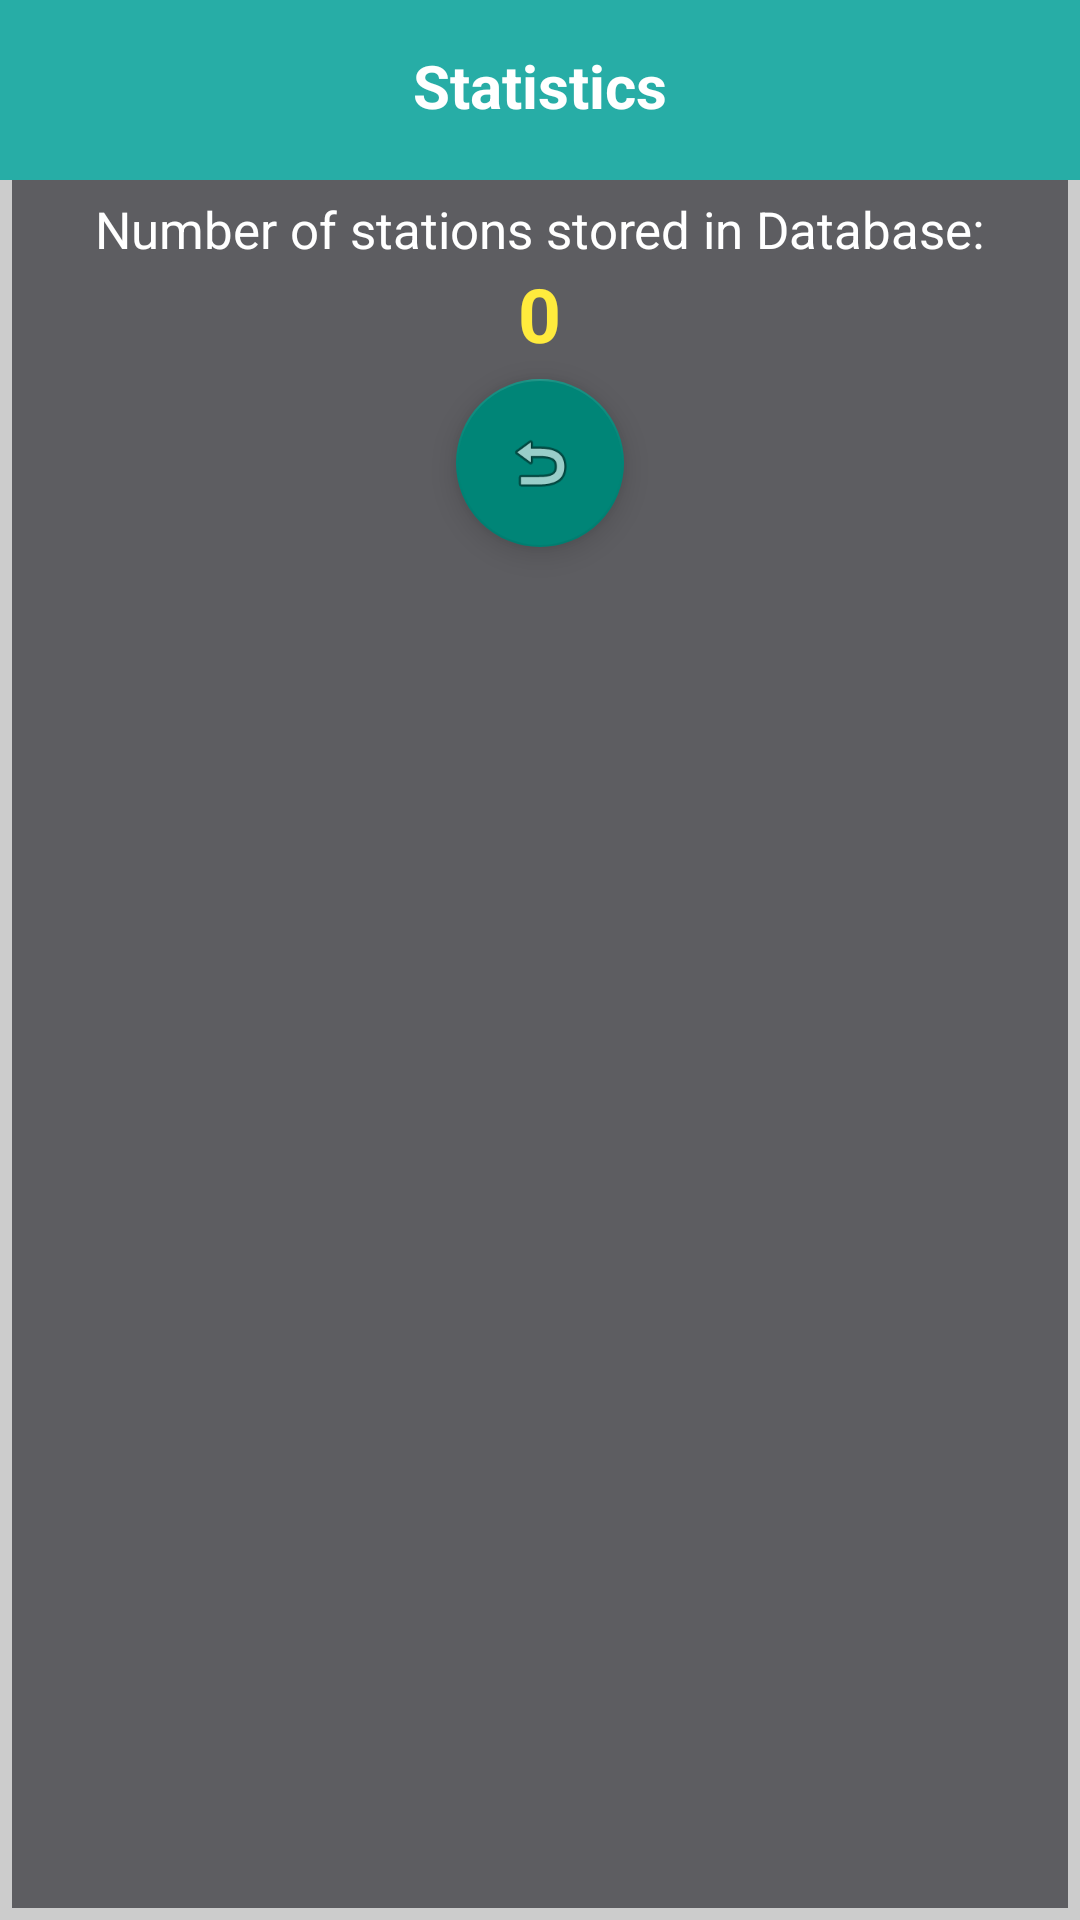

Named icons in this screenshot (1080px×1920px) and their centers, (x,y):
revert: (540,463)
